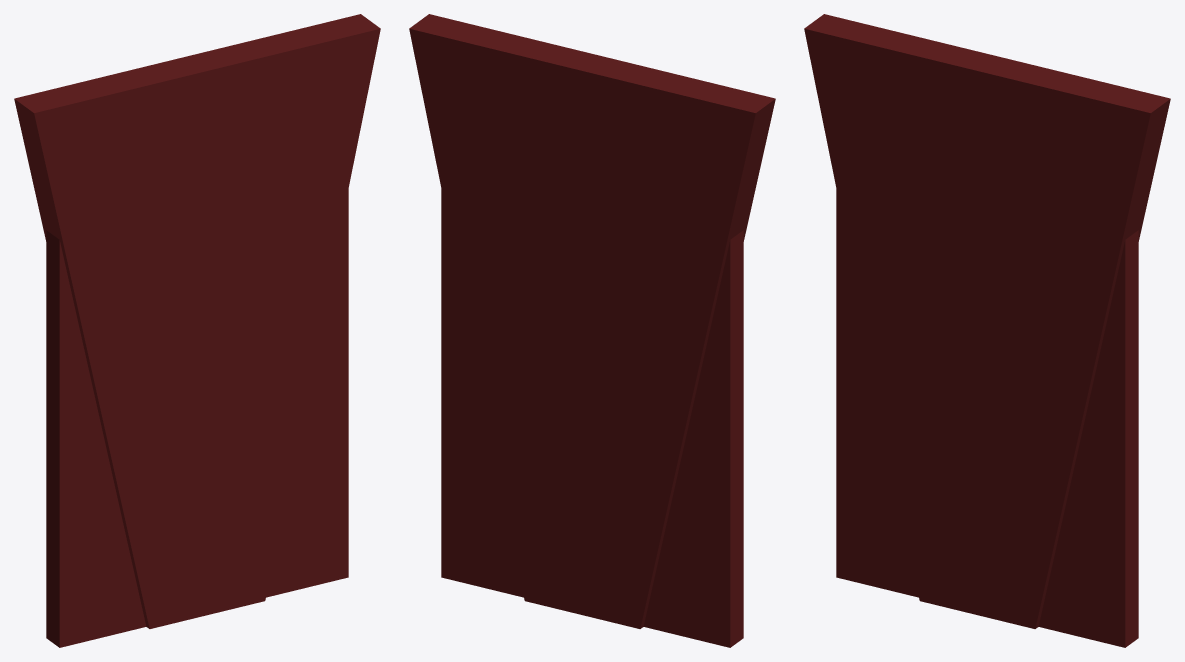
Rendered from beijing_1_door.obj.
3 renders of one model, left to right at view 1: azimuth 30°, elevation 25°; view 2: azimuth 150°, elevation 25°; view 3: azimuth 330°, elevation 25°, orthographic.
Visible parts, largest first — view 1: gatear, gateal, gatebr, gatebl; view 2: gatear, gateal, gatebr, gatebl; view 3: gateal, gatear, gatebl, gatebr.
Boxes of the visible parts, <box> form: gatear: <box>14,56,207,628</box>; gateal: <box>188,14,380,614</box>; gatebr: <box>46,230,146,647</box>; gatebl: <box>266,189,348,597</box>; gatear: <box>582,56,775,628</box>; gateal: <box>409,14,601,614</box>; gatebr: <box>643,230,743,647</box>; gatebl: <box>441,189,523,597</box>; gateal: <box>977,56,1170,628</box>; gatear: <box>804,14,996,614</box>; gatebl: <box>1038,230,1138,647</box>; gatebr: <box>836,189,918,597</box>.
Bounding box in the file's own units: 0.375 × 0.5625 × 0.0375.
Materials: 1 (1 with a texture image).
